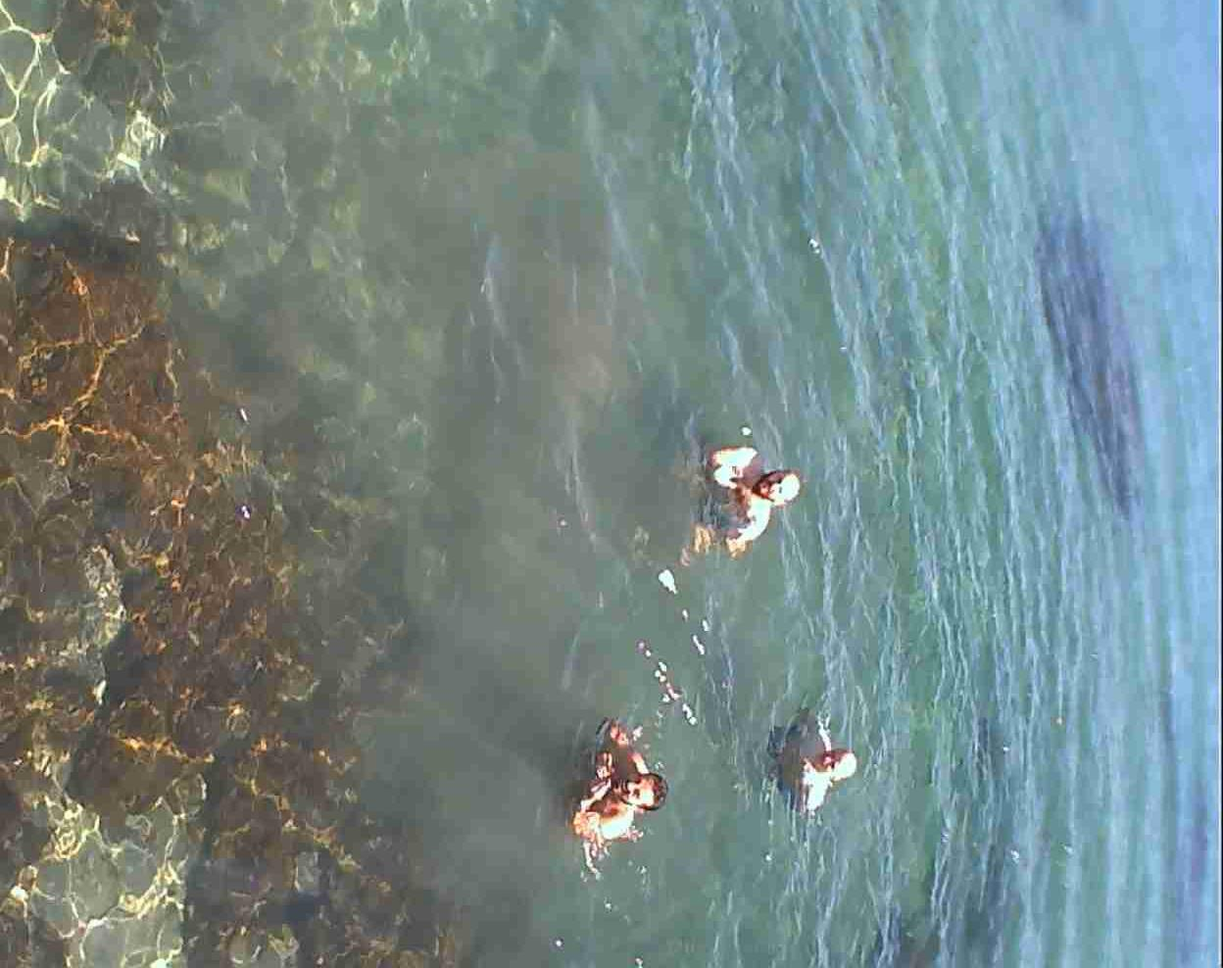swimmer: (673, 431, 805, 583), (549, 712, 665, 869), (776, 687, 866, 847)
